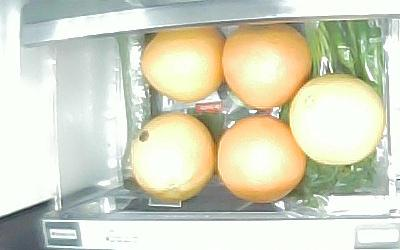grapefruit: (291, 74, 385, 165), (126, 111, 216, 203), (221, 23, 312, 110), (218, 115, 306, 204), (139, 26, 226, 103)
